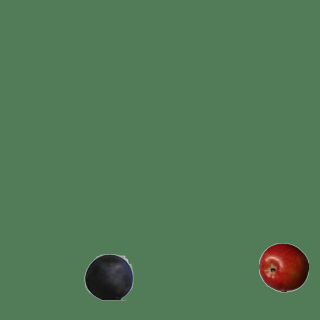Apple Braeburn: (258, 242, 308, 292)
Grape Blue: (83, 251, 133, 301)
